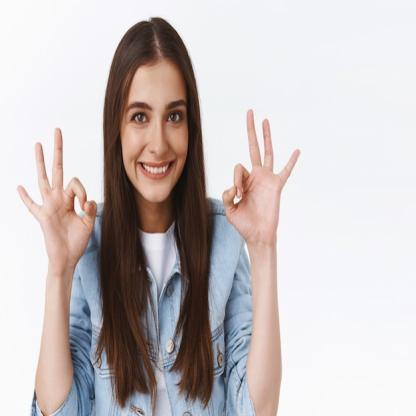ok: (16, 125, 100, 273), (221, 105, 300, 243)
